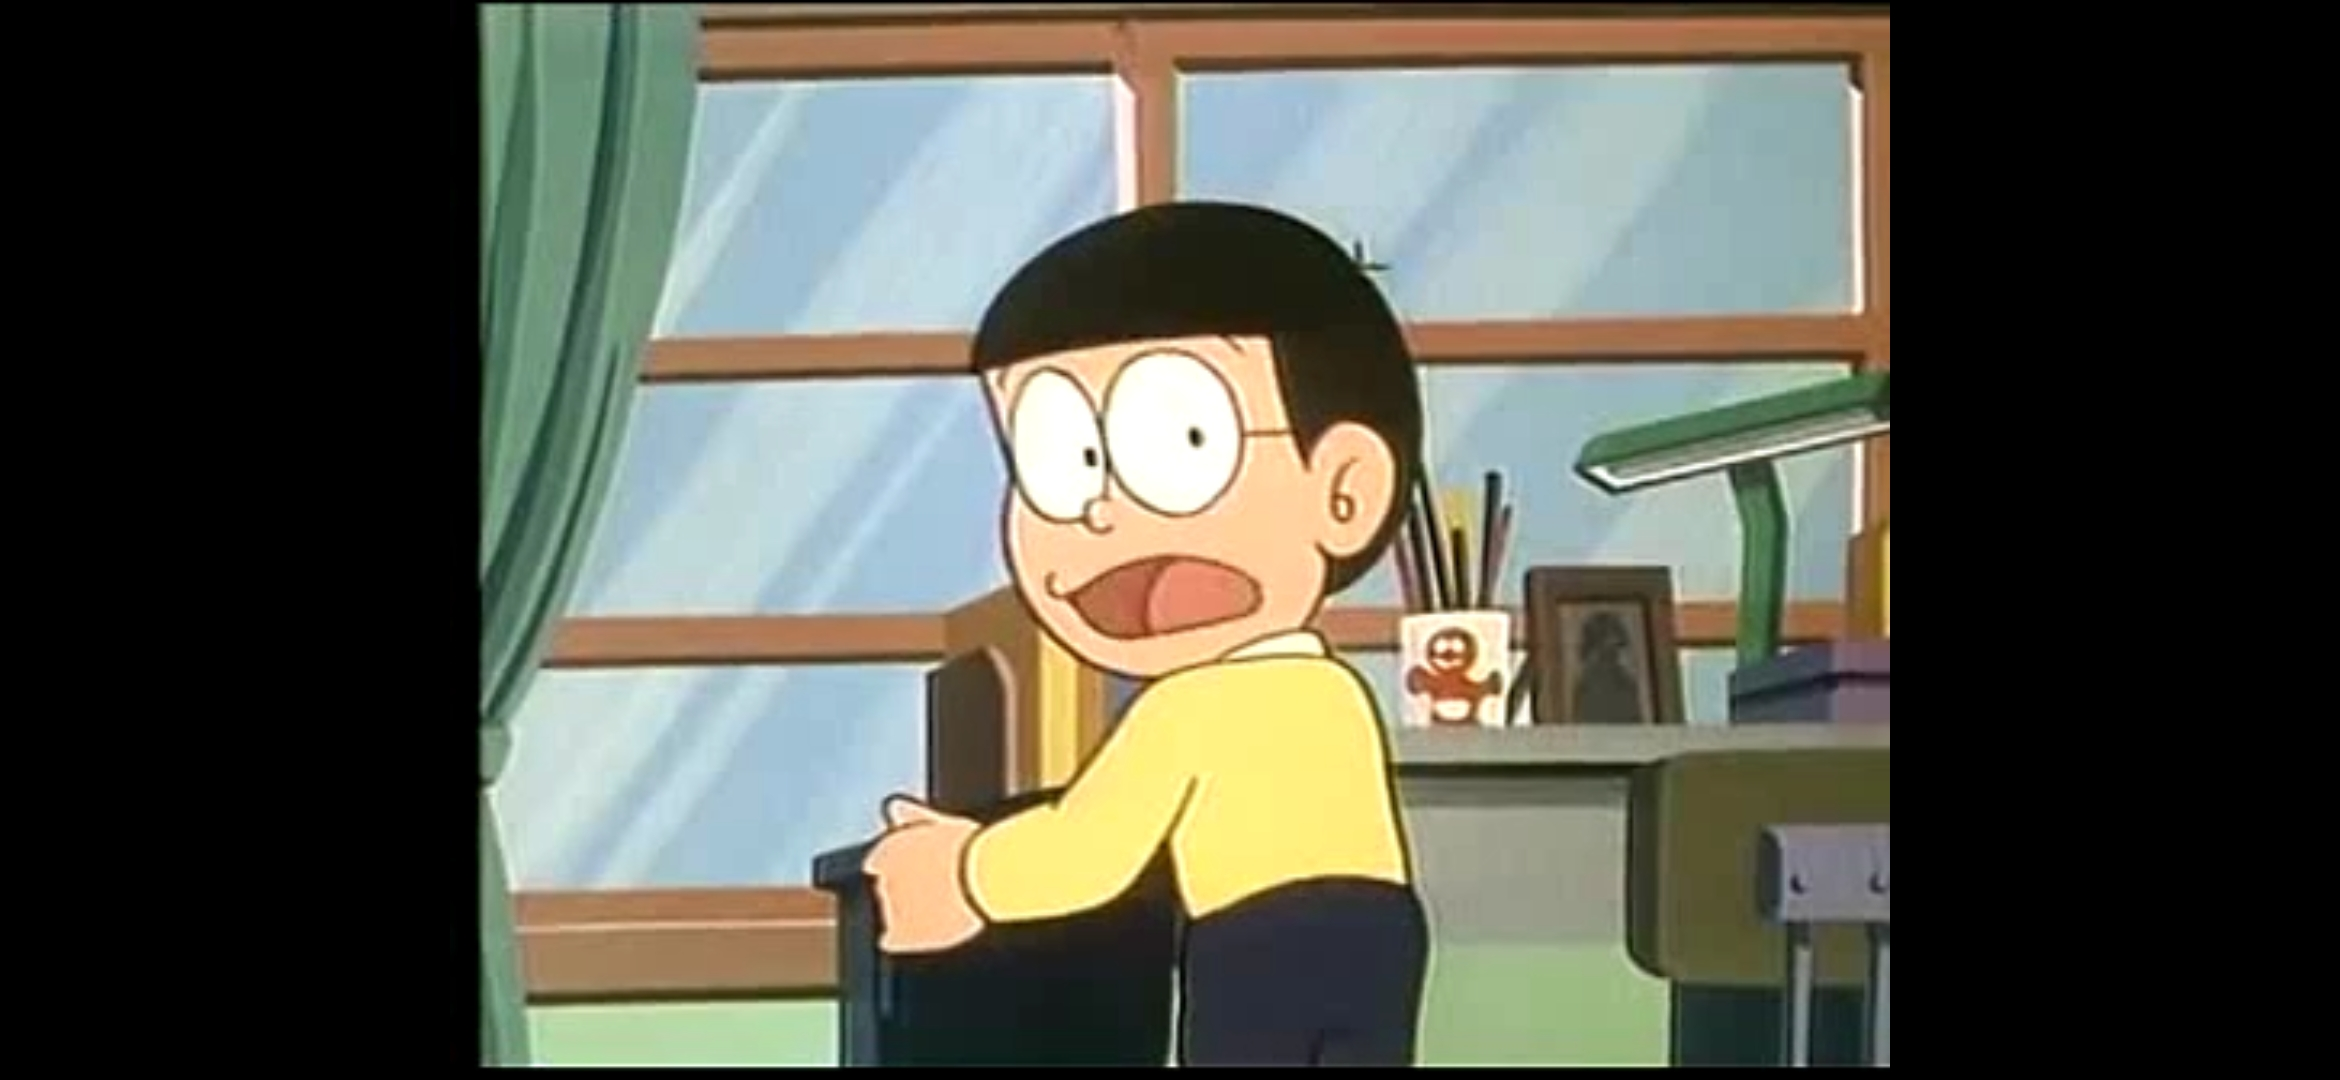Nobi: (969, 200, 1421, 680)
